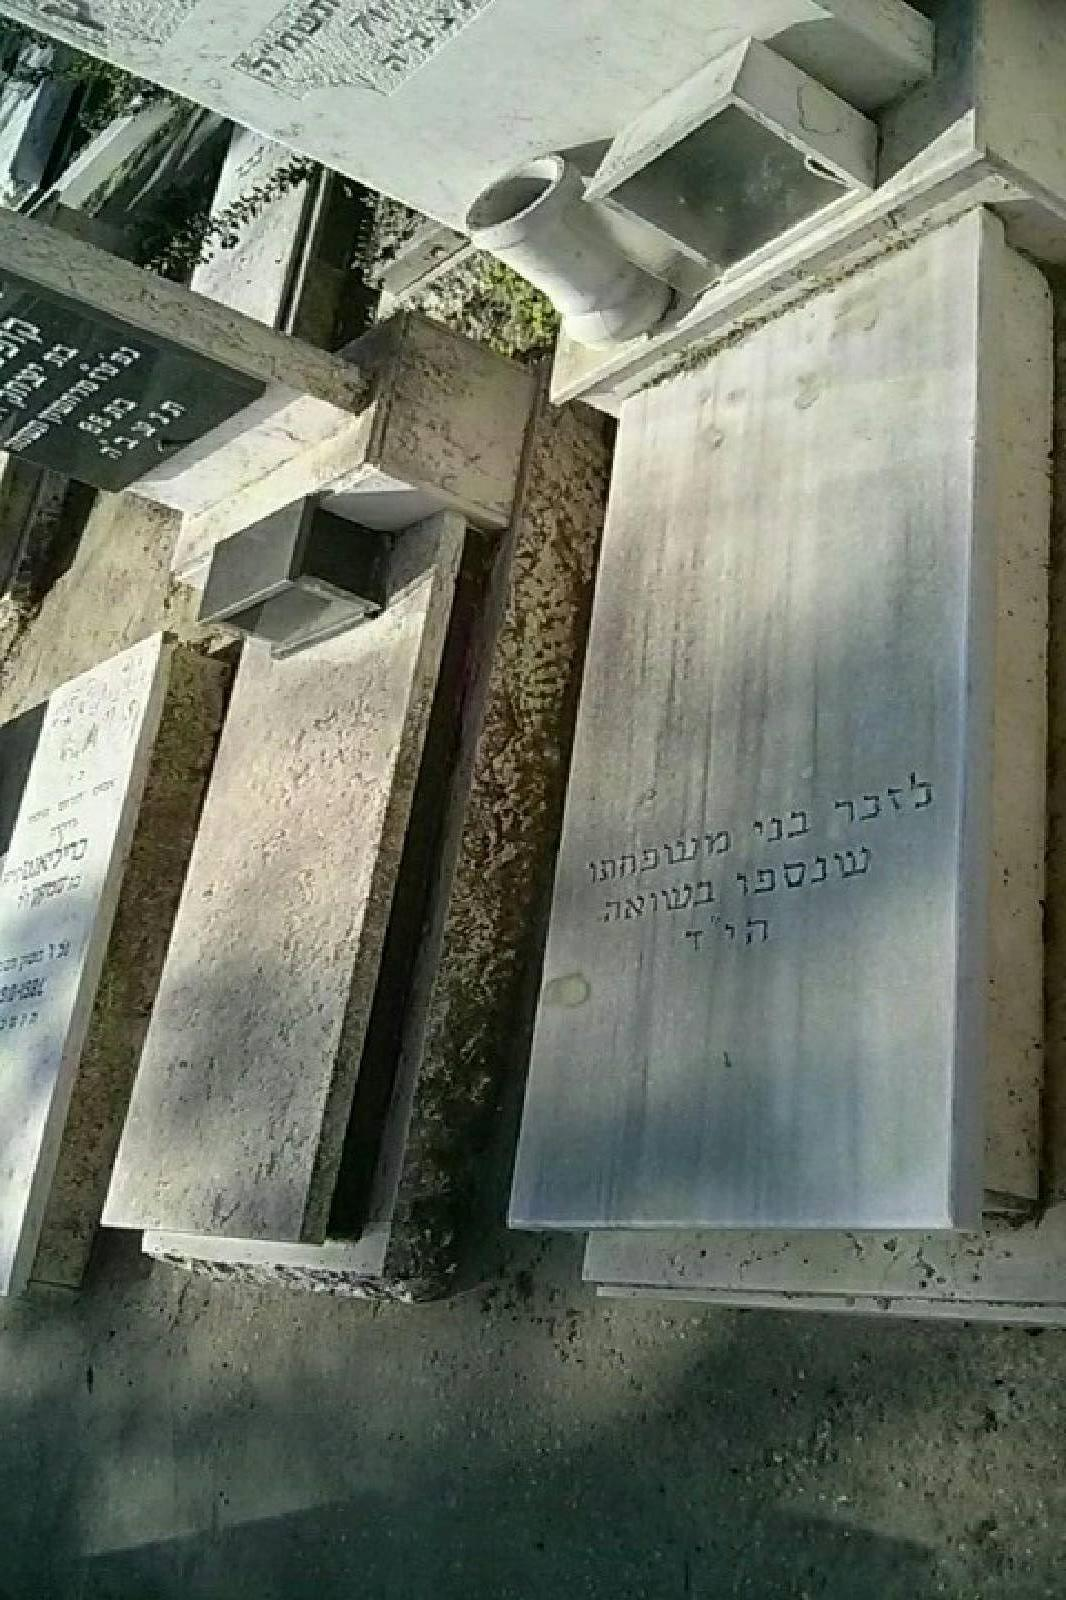vault: (429, 183, 1066, 1347)
